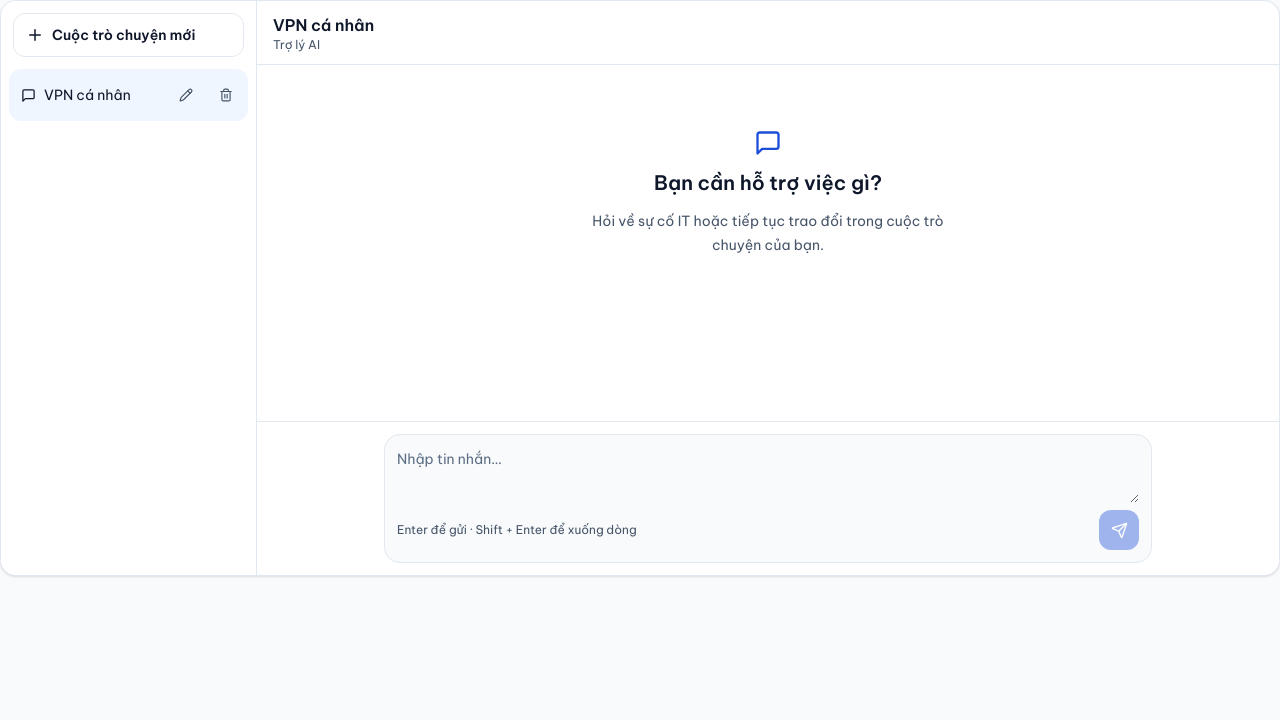
Test: retains explicit human approval for approve=false in a saved conversation
The width and height of the screenshot is (1280, 720).
Check: the button "VPN cá nhân" is shown, box [13, 73, 164, 117]
Step 1. Type "VPN không kết nối." into the text box named "Câu hỏi hỗ trợ IT" → coordinates (768, 475), box [397, 447, 1139, 503]
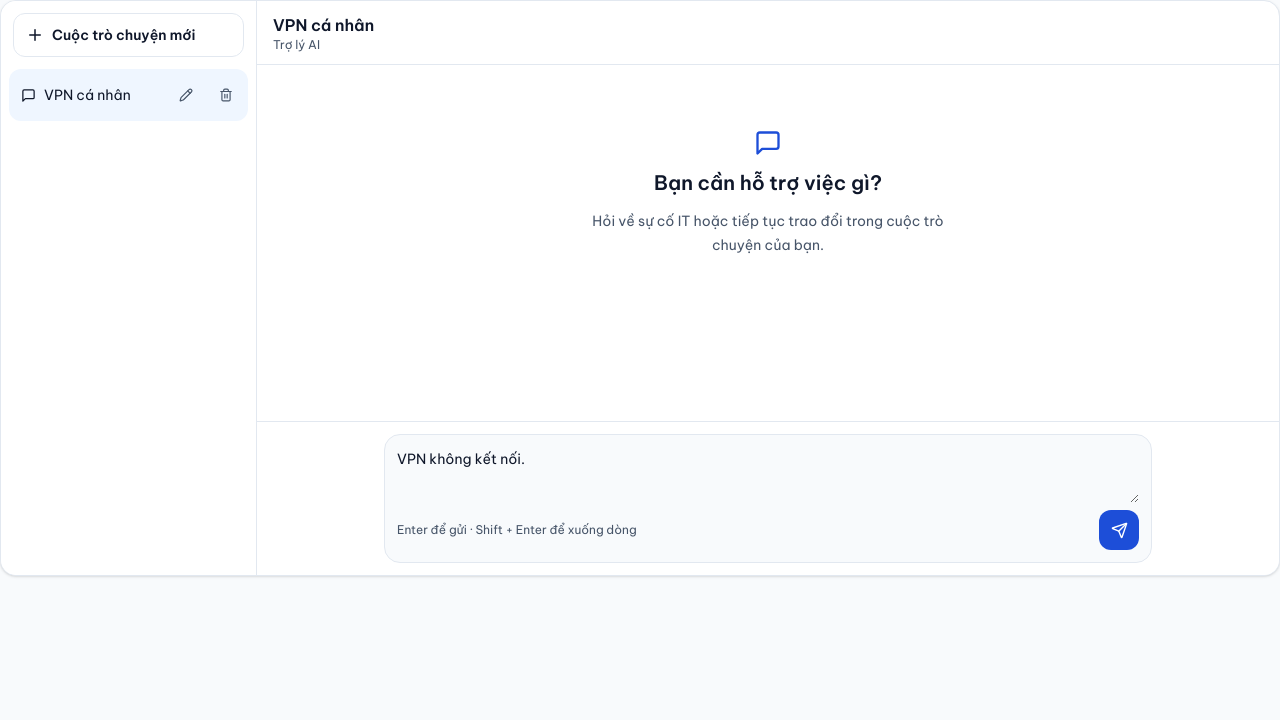
Check: the button named "Gửi câu hỏi" is enabled
Step 2. Click the button named "Gửi câu hỏi" → coordinates (1119, 530), box [1099, 510, 1139, 550]
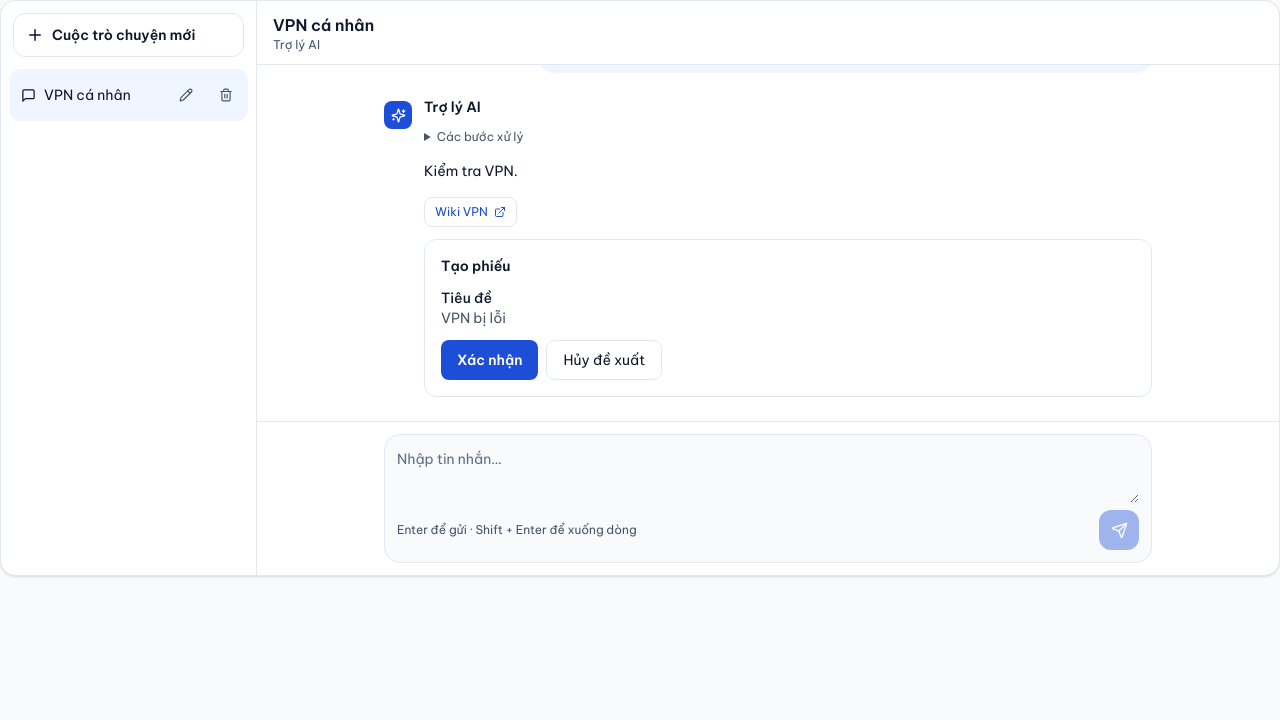
Check: the text "Kiểm tra VPN." is shown, box [424, 162, 518, 180]
Check: the button "Hủy đề xuất" is enabled
Step 3. Click the button "Hủy đề xuất" → coordinates (604, 360), box [546, 340, 662, 380]
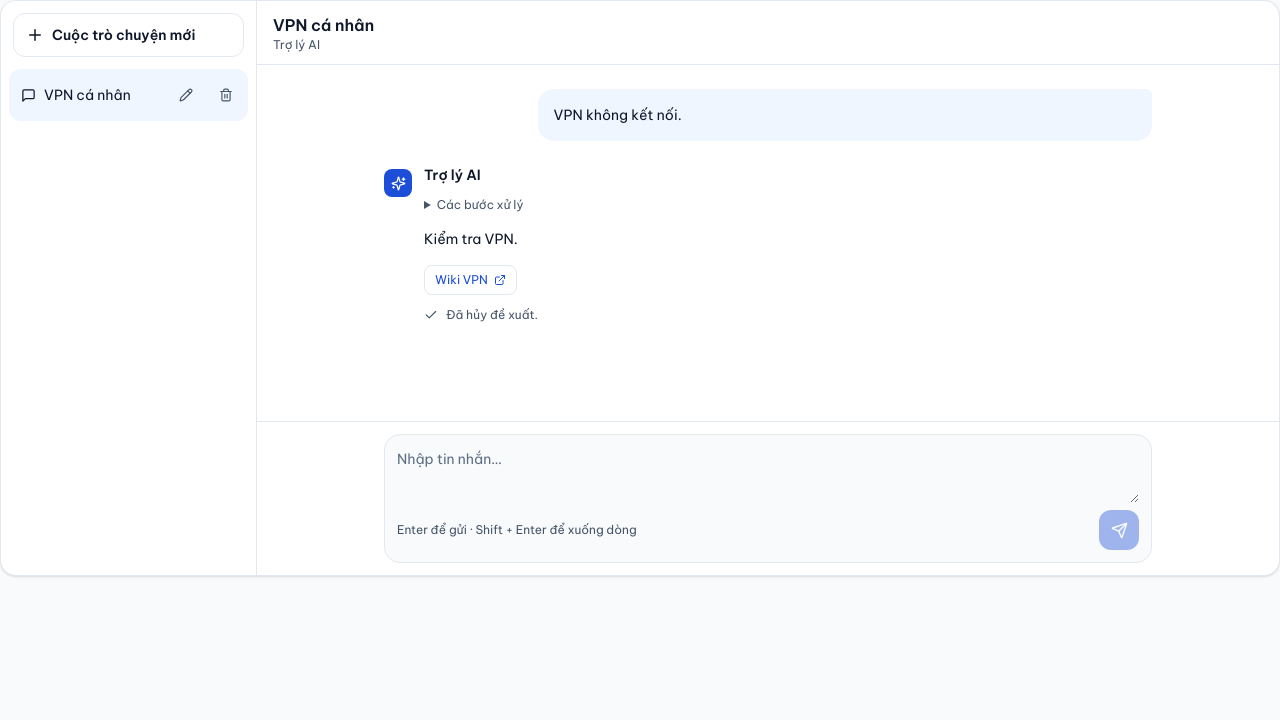
Check: the text "Đã hủy đề xuất." is shown, box [424, 307, 538, 322]
